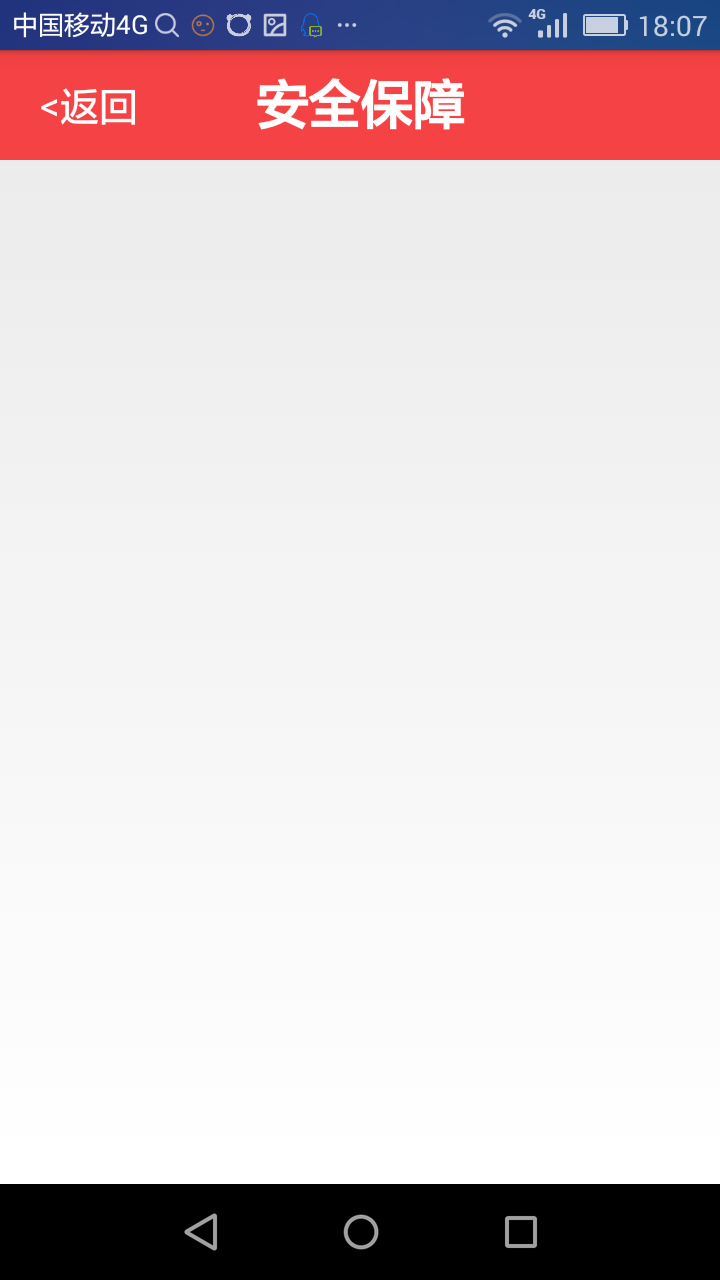button: (18, 81, 160, 144)
